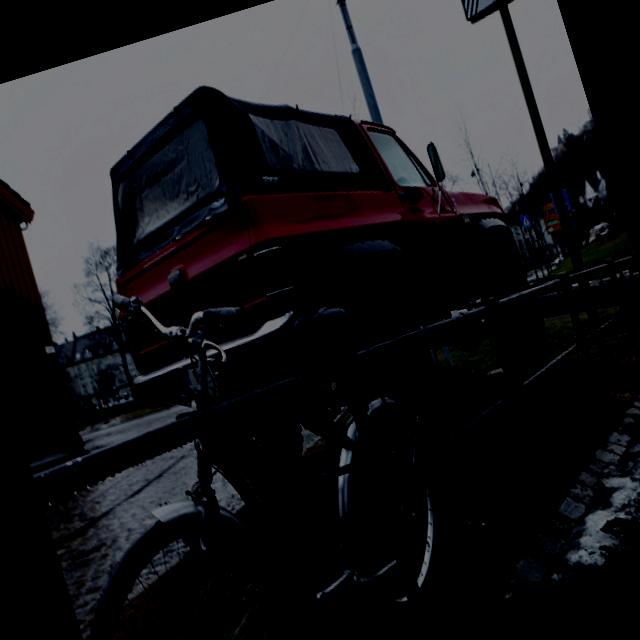Vehicle: (51, 12, 576, 534), (584, 218, 616, 242)
